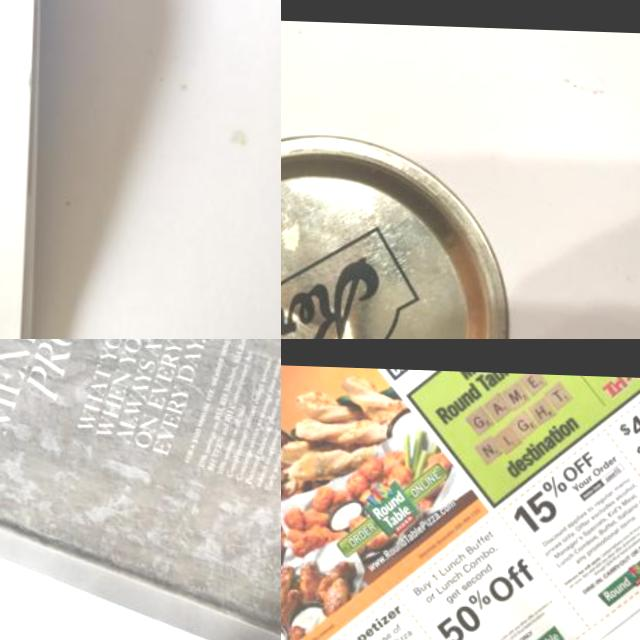lata: (281, 123, 516, 339)
papel: (281, 359, 640, 640), (0, 339, 281, 640)
